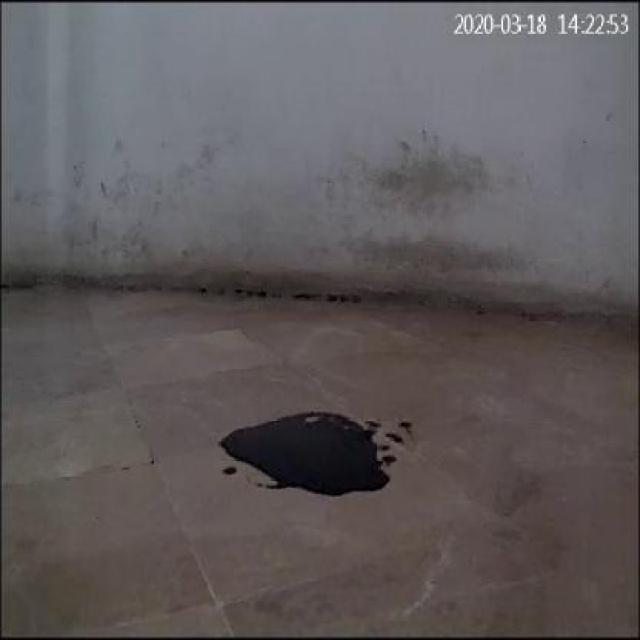spill: (218, 408, 396, 496)
